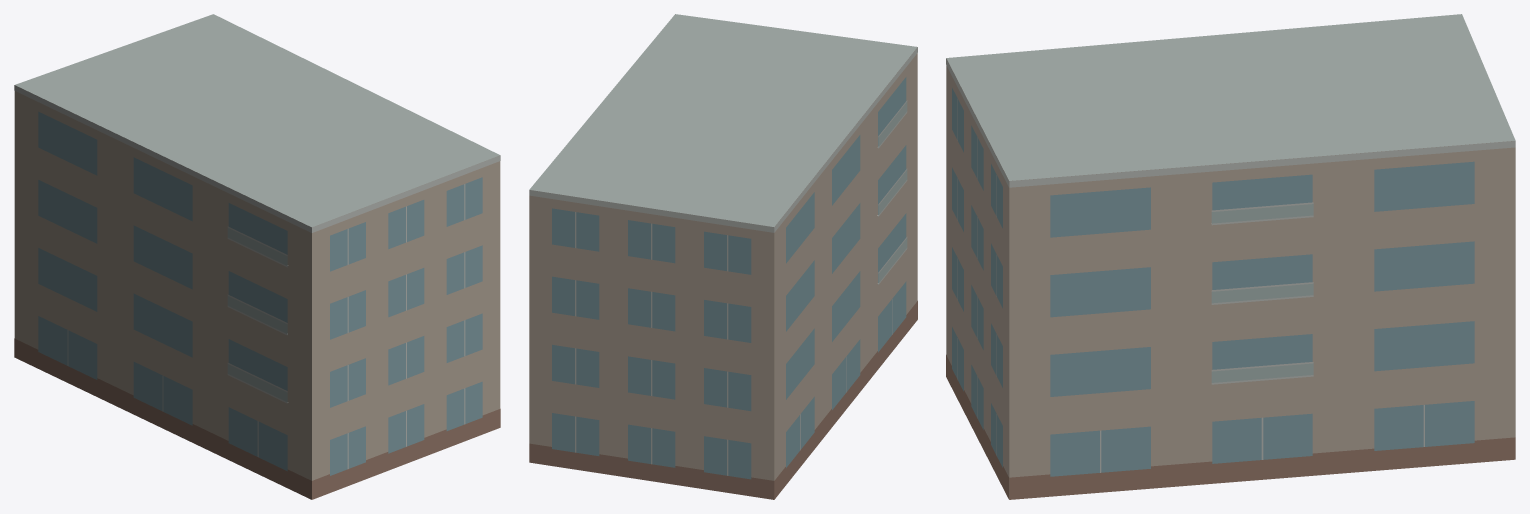
Rendered from survey-upis-33002870.glb.
3 views of the same model, side by side, from view 1: azimuth 30°, elevation 25°; view 2: azimuth 150°, elevation 25°; view 3: azimuth 270°, elevation 25° (orthographic). The views are drawn at different scales.
Visible parts, largest first — view 1: survey-upis-33002870.tmp; view 2: survey-upis-33002870.tmp; view 3: survey-upis-33002870.tmp.
Boxes of the visible parts, x1,y1,x2,y2 form: survey-upis-33002870.tmp: [14, 14, 500, 499]; survey-upis-33002870.tmp: [529, 14, 917, 499]; survey-upis-33002870.tmp: [946, 14, 1515, 499].
Bounding box in the file's own units: 13.04 × 11.6 × 18.79.
